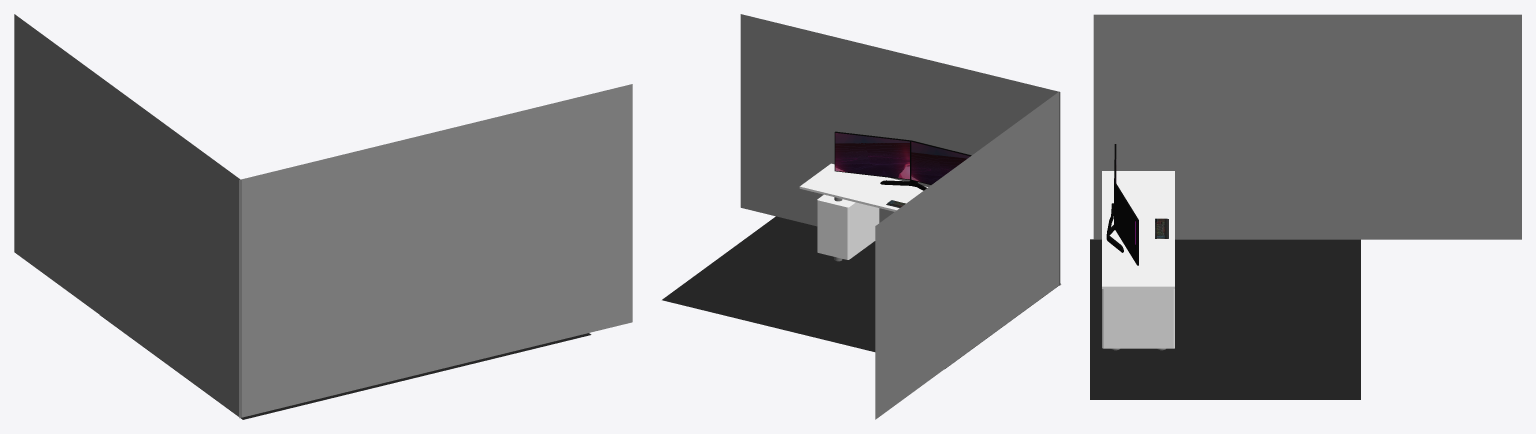
The model's file is pc_setup.glb.
The picture shows the model from 3 angles, left to right: view 1: azimuth 30°, elevation 25°; view 2: azimuth 150°, elevation 25°; view 3: azimuth 270°, elevation 25°; orthographic projection. The views are drawn at different scales.
Parts seen in each view (by area): view 1: Plane.001, Plane.005, Plane; view 2: Plane.005, Plane.001, Plane, Cube.002, Cube.013, Cube, Cube.001; view 3: Plane.005, Plane, Cube, Cube.002, Cube.012.
Part boxes in pixels (x1,y1,x2,y2): Plane.001: (239,84,632,418); Plane.005: (14,14,241,417); Plane: (100,315,591,419); Plane.005: (875,92,1058,419); Plane.001: (740,14,1060,285); Plane: (662,216,1060,368); Cube.002: (817,194,879,259); Cube.013: (835,133,909,179); Cube: (799,163,927,211); Cube.001: (911,141,970,184); Plane.005: (1093,14,1521,239); Plane: (1090,239,1360,399); Cube: (1102,171,1174,288); Cube.002: (1102,289,1174,348); Cube.012: (1114,182,1138,265).
Bounding box in the file's own units: 4.69 × 2.72 × 4.73.
14 materials, 2 textured.
